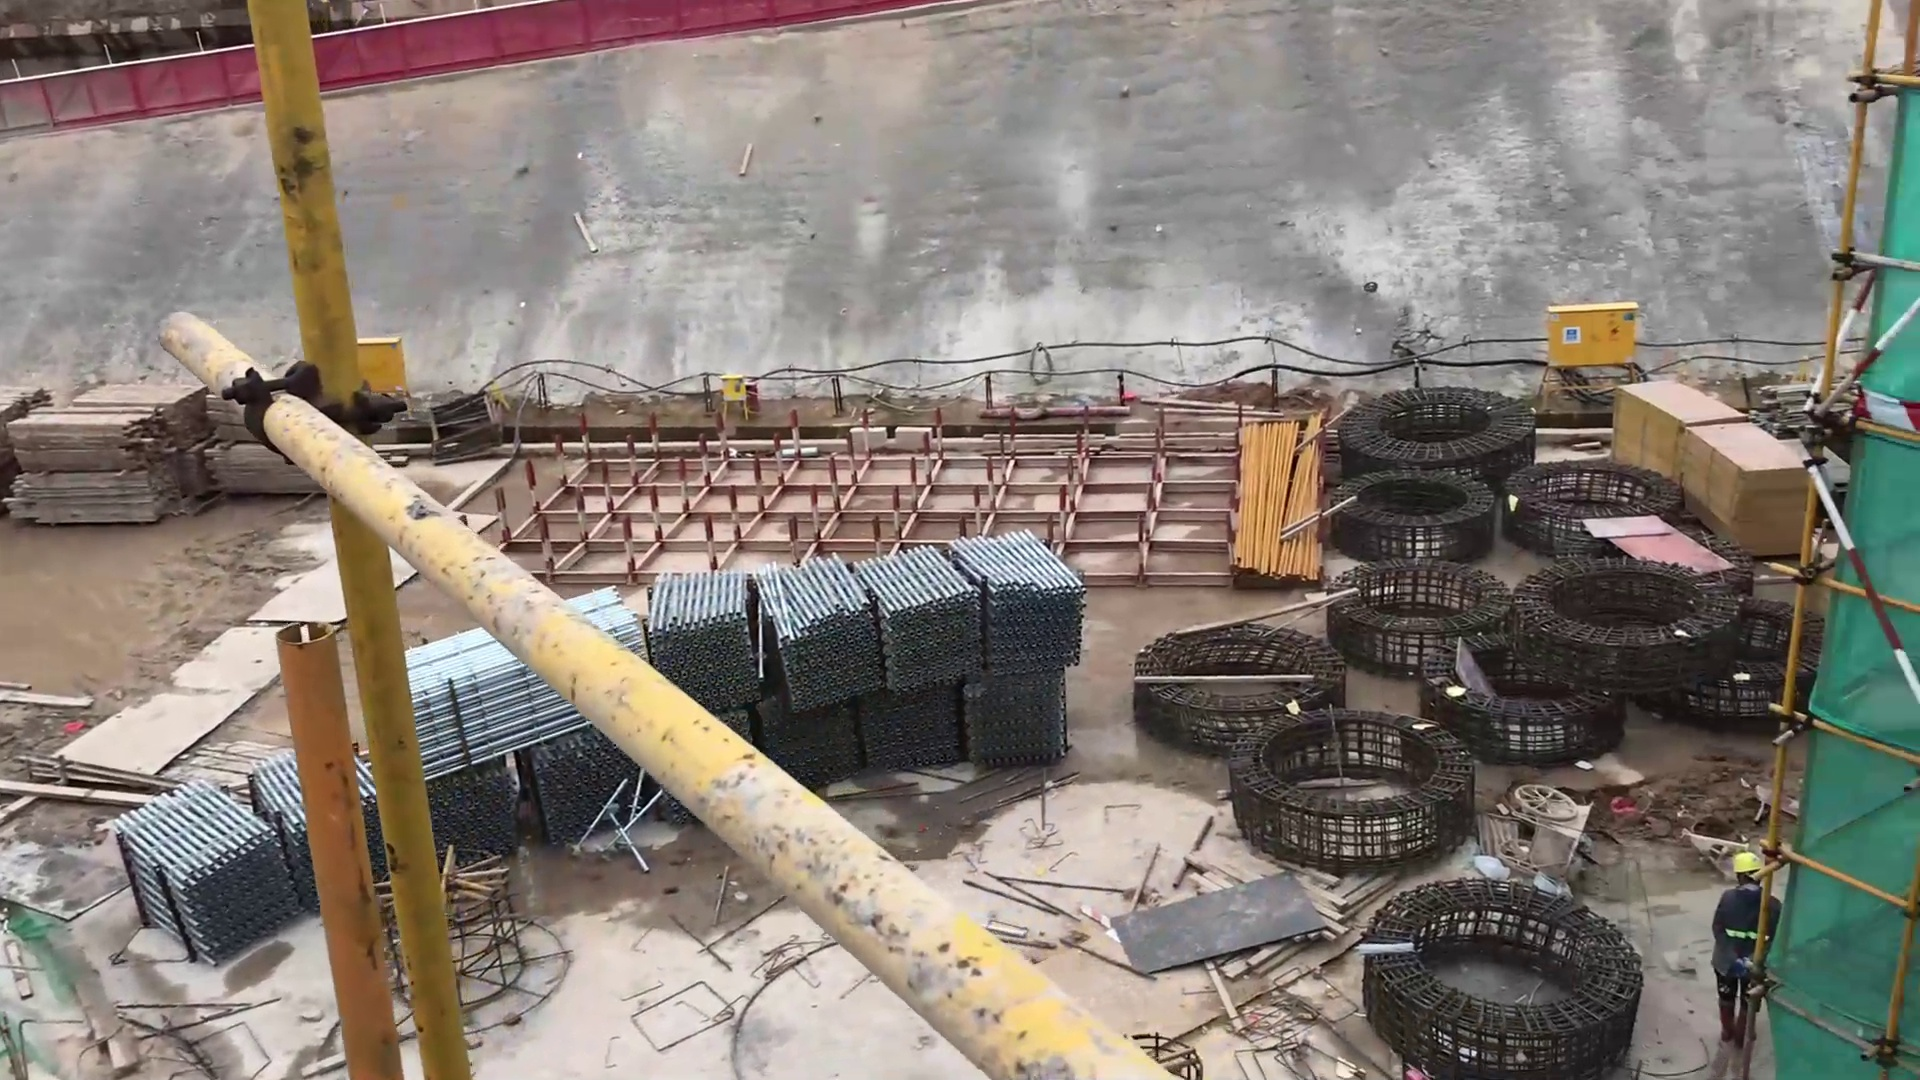board: (1614, 364, 1812, 560), (1589, 508, 1728, 586)
ebox: (1534, 296, 1651, 381), (352, 335, 412, 412), (715, 371, 752, 431)
fence: (1, 59, 257, 129)
helmet: (1730, 849, 1763, 875)
person: (1706, 851, 1784, 1061)
scaffold: (115, 785, 300, 971), (811, 667, 1080, 776), (404, 638, 582, 757), (860, 533, 992, 690), (956, 526, 1093, 667), (762, 556, 878, 715), (645, 572, 771, 715)
wood: (22, 370, 210, 524)
